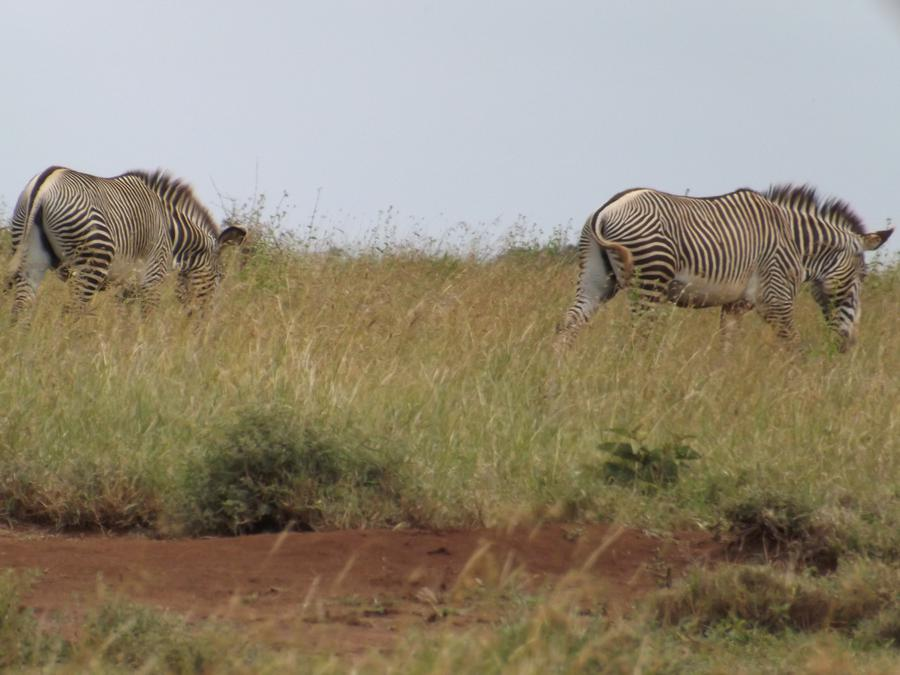zebra_grevys: (601, 187, 795, 305)
